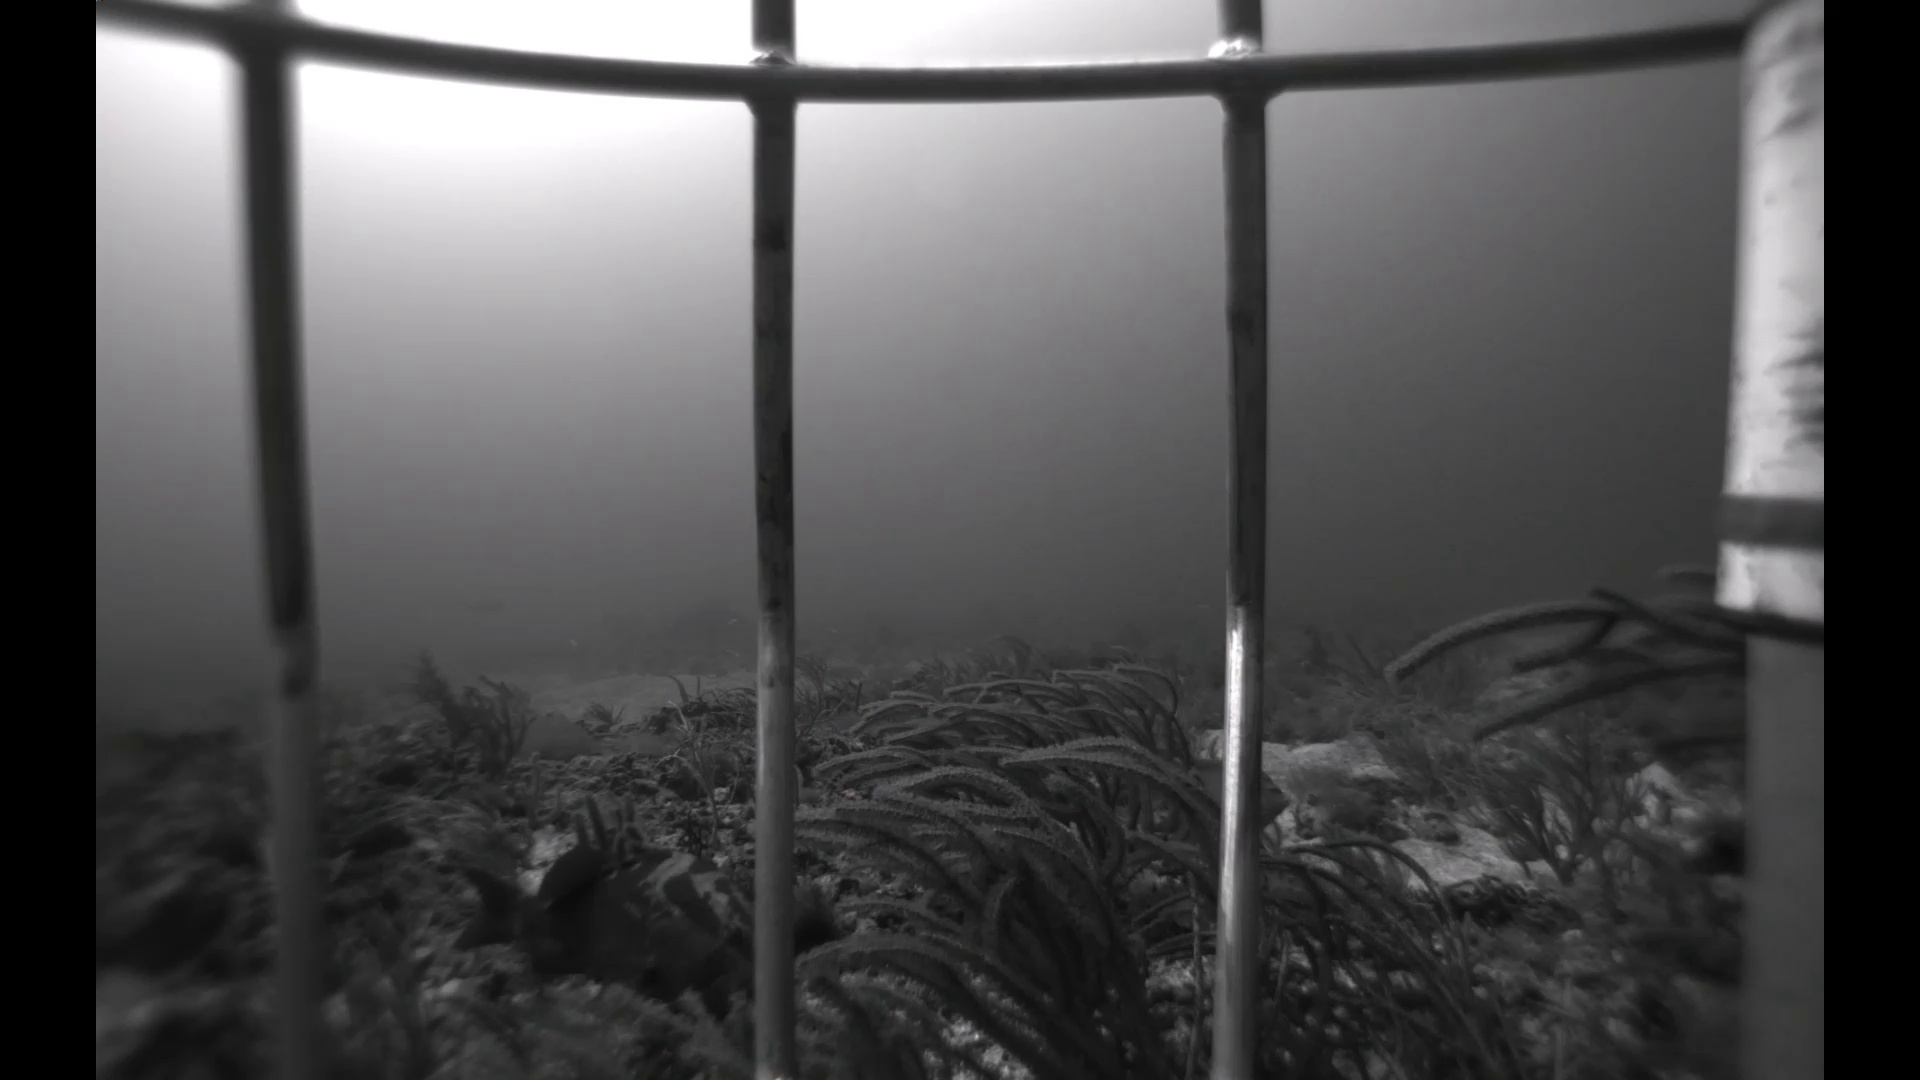CHAETODONOCELLATUS-170260307: (98, 724, 174, 787), (243, 828, 282, 891)
EPINEPHELUSMORIO-170021211: (448, 818, 758, 1006)
HOLACANTHUSBERMUDENSIS-170290102: (1160, 744, 1294, 847)
HYPOPLECTRUS-170021500: (1677, 807, 1750, 887)
IOGLOSSUS-170550800: (1188, 593, 1212, 611), (823, 622, 843, 638), (723, 613, 742, 629), (564, 636, 584, 650), (717, 644, 738, 657), (735, 663, 746, 675)
PAGRUSPAGRUS-170212302: (417, 580, 524, 626)
